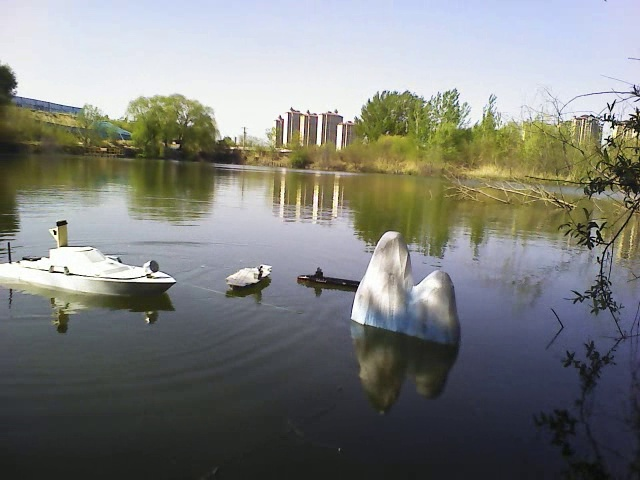aircraft_carrier: (226, 254, 277, 295)
boat: (2, 238, 178, 304)
iceberg: (352, 228, 464, 349)
submarine: (294, 269, 361, 290)
